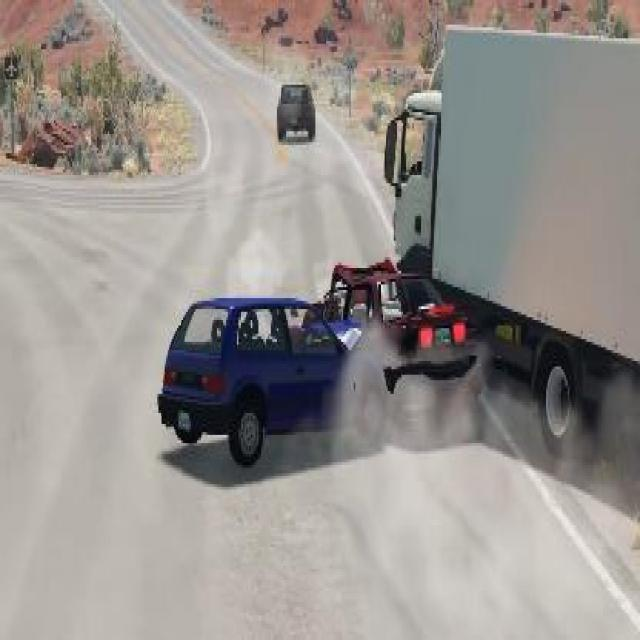accident: (146, 14, 639, 465)
